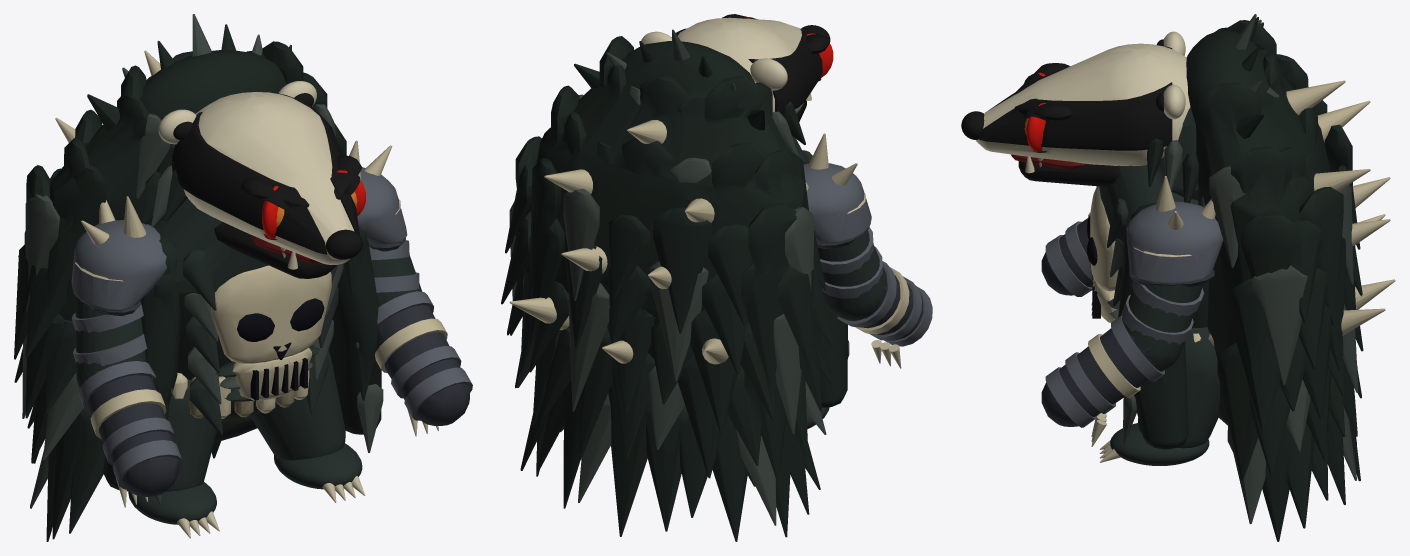
File: castlemaw.glb
The picture shows the model from 3 angles, left to right: view 1: azimuth 30°, elevation 25°; view 2: azimuth 150°, elevation 25°; view 3: azimuth 270°, elevation 25°; orthographic projection. The views are drawn at different scales.
Parts seen in each view (by area): view 1: creature; view 2: creature; view 3: creature.
Part boxes in pixels (bbox=[...]): creature: bbox=[14, 14, 472, 541]; creature: bbox=[501, 14, 932, 541]; creature: bbox=[961, 14, 1395, 541].
Size of the model in its own units: 0.7298 by 1 by 0.8435.
